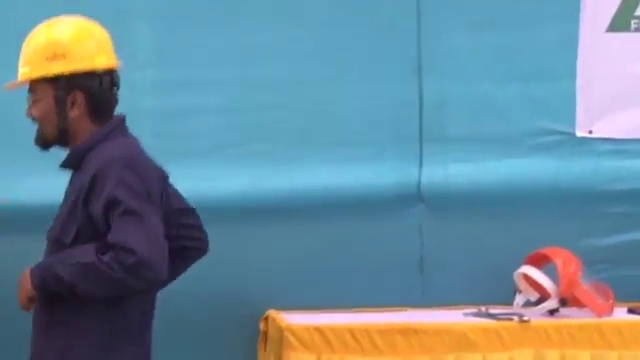helmet: (4, 14, 120, 90)
helmet_on: (3, 12, 128, 153)
person: (2, 10, 210, 360)
